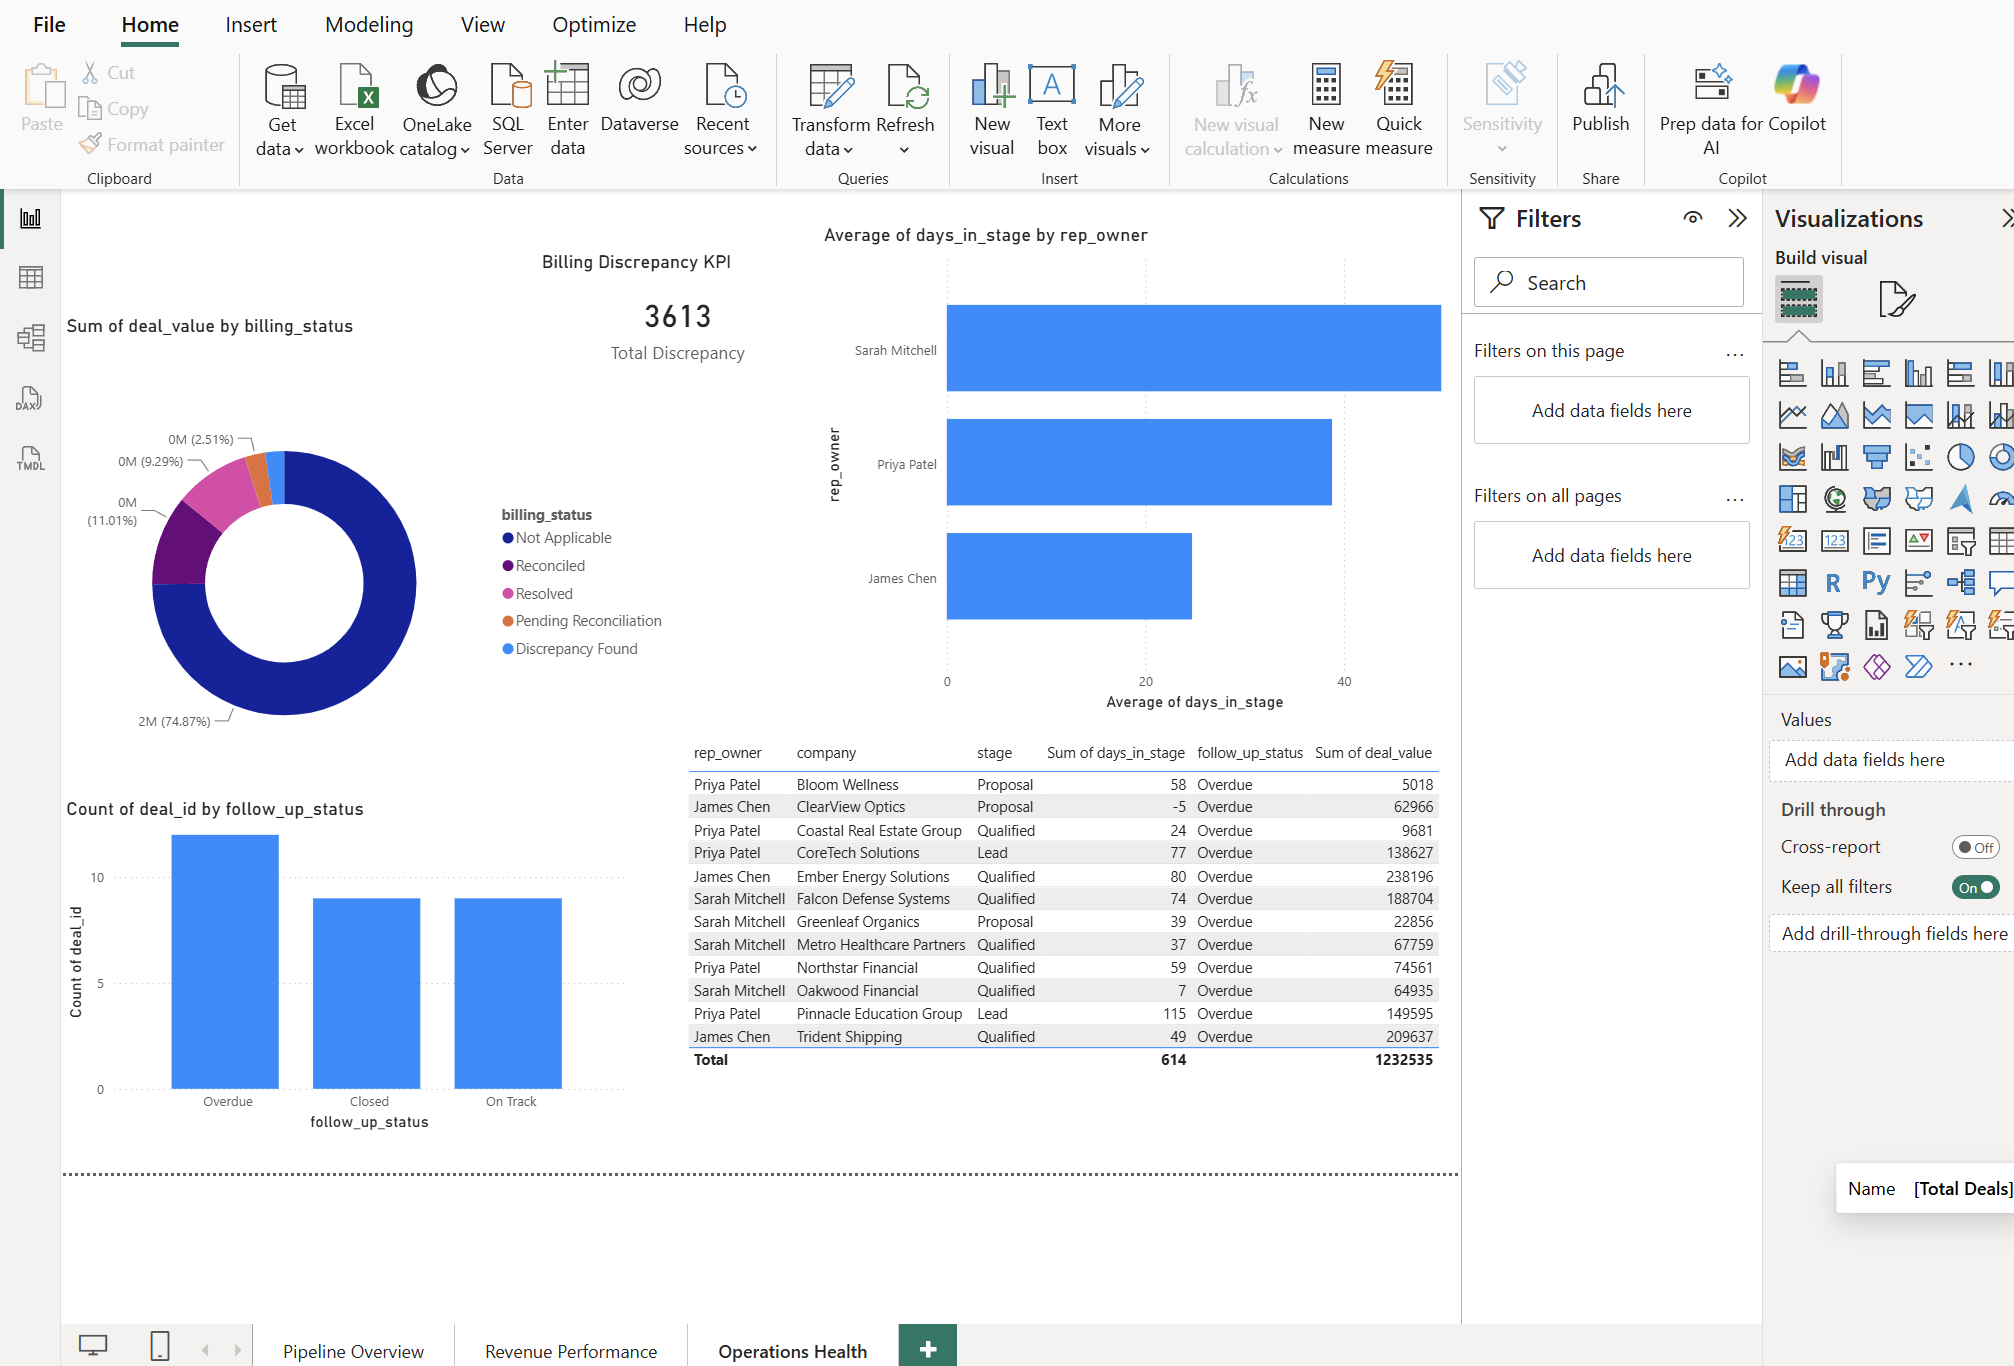

What the dashboard file says about the page in this screenshot:
{"tool":"powerbi","page":{"name":"Operations Health","canvas":[1280,900],"ordinal":2},"visuals":[{"type":"donutChart","fields":{"Category":["powerbi_dataset.billing_status"],"Y":["Sum(powerbi_dataset.deal_value)"]},"box":[0,115.2,563.7,470.4],"z":0},{"type":"clusteredColumnChart","fields":{"Category":["powerbi_dataset.follow_up_status"],"Y":["CountNonNull(powerbi_dataset.deal_id)"]},"box":[0,556.8,519.8,308.6],"z":1000},{"type":"clusteredBarChart","fields":{"Category":["powerbi_dataset.rep_owner"],"Y":["Avg(powerbi_dataset.days_in_stage)"]},"box":[692.6,31.5,582.9,449.8],"z":2000},{"type":"card","title":" Billing Discrepancy KPI","fields":{"Values":["powerbi_dataset.Total Discrepancy"]},"box":[434.7,56.2,257.8,117.9],"z":3000},{"type":"tableEx","fields":{"Values":["powerbi_dataset.rep_owner","powerbi_dataset.company","powerbi_dataset.stage","Sum(powerbi_dataset.days_in_stage)","powerbi_dataset.follow_up_status","Sum(powerbi_dataset.deal_value)"]},"box":[567.8,499.2,711.8,319.5],"z":4000}]}

Visuals, with their boxes on the page's 1280x900 design canvas (x1, y1, x2, y2). These are canvas units, not pixel positions in the 2014x1366 screenshot, which may show the page scaled, cropped or inside an application window:
donutChart - powerbi_dataset.billing_status x Sum(powerbi_dataset.deal_value): rect(0, 115, 564, 586)
clusteredColumnChart - powerbi_dataset.follow_up_status x CountNonNull(powerbi_dataset.deal_id): rect(0, 557, 520, 865)
clusteredBarChart - powerbi_dataset.rep_owner x Avg(powerbi_dataset.days_in_stage): rect(693, 32, 1276, 481)
" Billing Discrepancy KPI" card: rect(435, 56, 692, 174)
tableEx - powerbi_dataset.rep_owner x powerbi_dataset.company: rect(568, 499, 1280, 819)
